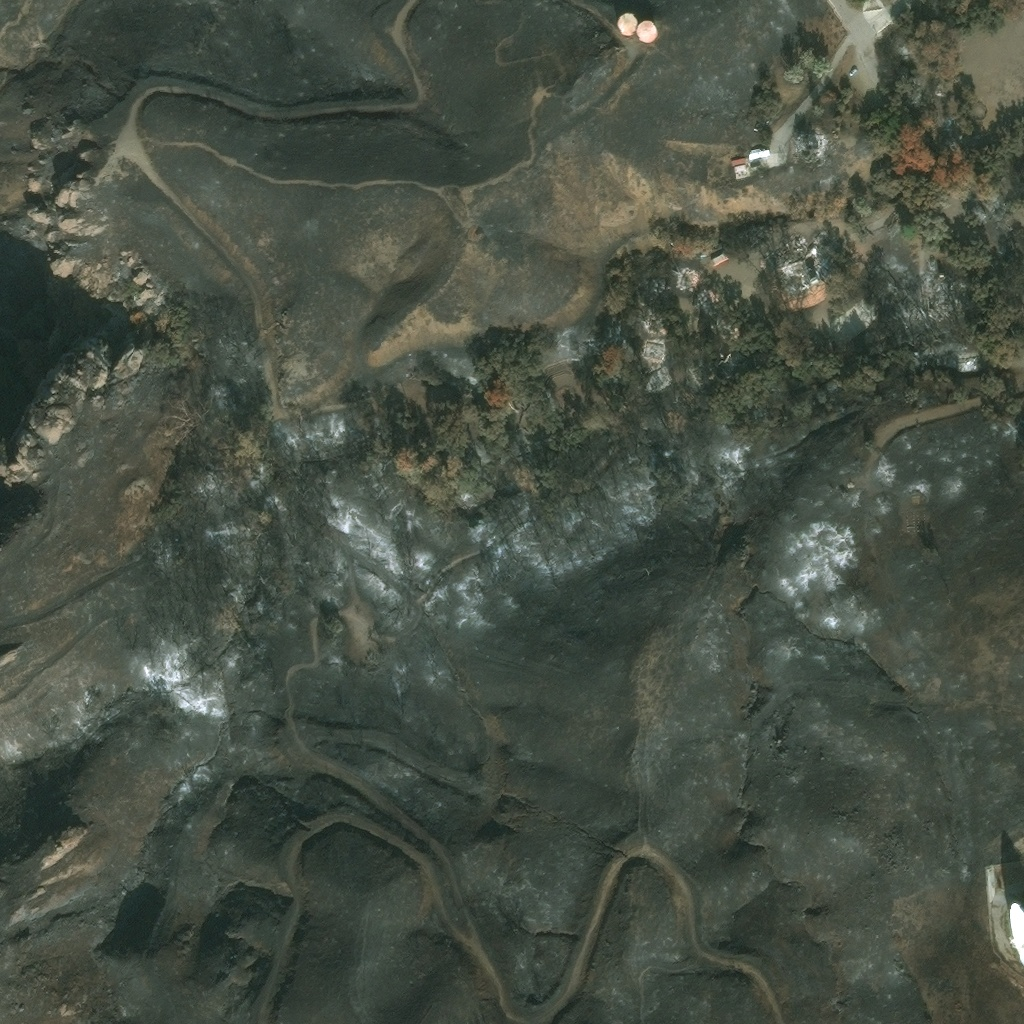0 no-damage: (615, 11, 658, 44), (730, 156, 747, 173), (711, 252, 727, 265)
3 destroyed: (758, 227, 844, 298), (713, 343, 757, 385), (662, 384, 699, 427), (927, 272, 964, 308), (944, 346, 1003, 367), (539, 357, 580, 383), (840, 301, 872, 329), (553, 385, 583, 414), (794, 132, 822, 158), (643, 363, 668, 388), (678, 266, 700, 287), (461, 382, 479, 407), (803, 329, 824, 349), (643, 339, 665, 357), (964, 373, 982, 386), (753, 225, 774, 236)
4 un-classified: (1007, 903, 1023, 966), (0, 655, 5, 664)
